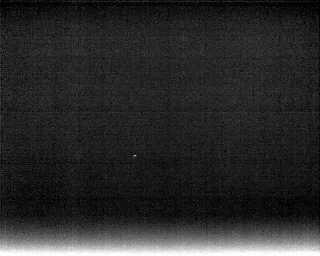AIRPLANE: (131, 151, 139, 160)
